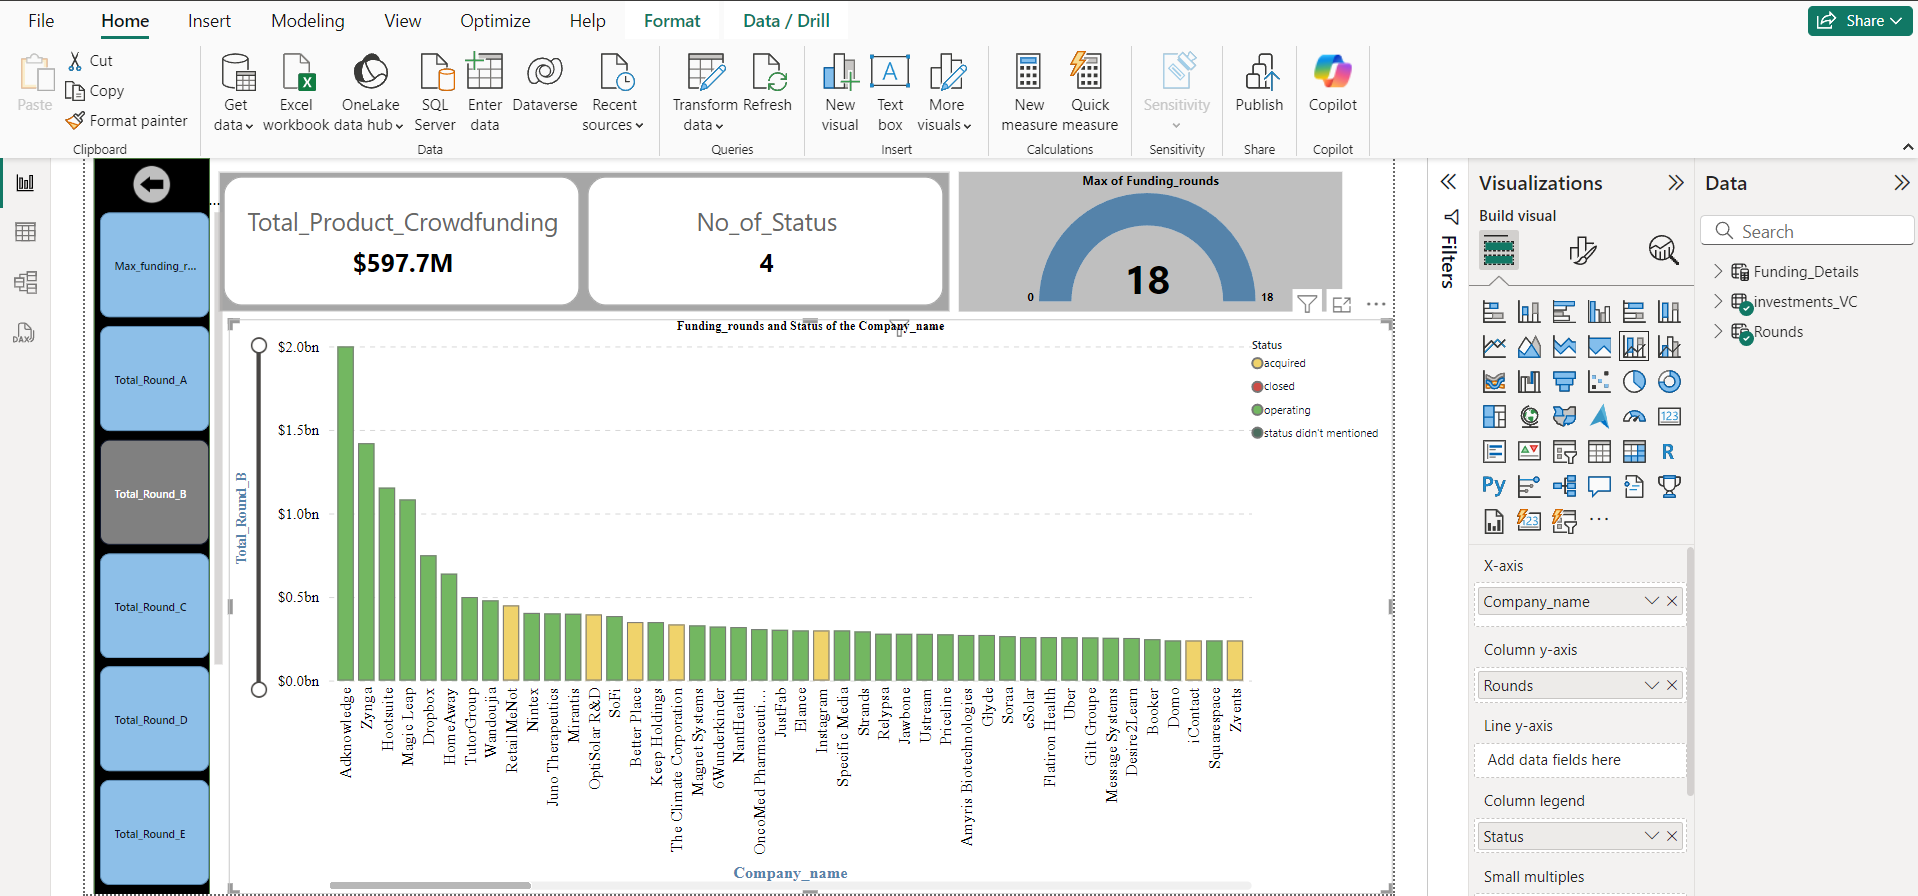

Layout of this report page (visuals, bound fields, positions):
{"tool":"powerbi","page":{"name":"Page 2","canvas":[1280,720],"ordinal":1},"visuals":[{"type":"shape","box":[9.2,0,113.7,1080.4],"z":0},{"type":"cardVisual","fields":{"Data":["investments_VC.Total_Product_Crowdfunding","investments_VC.Distinct"]},"box":[130.8,13.5,715.4,137],"z":1000},{"type":"kpi","box":[1287.6,34.9,533.8,394.4],"z":2000},{"type":"gauge","title":"Max of Funding_rounds","fields":{"Y":["Max(investments_VC.Funding_rounds)"],"MaxValue":["investments_VC.Max_funding_rounds"]},"box":[854.8,13.5,375.4,137],"z":3000},{"type":"lineStackedColumnComboChart","title":"Funding_rounds and Status of the Company_name","fields":{"Y":["investments_VC.Max_funding_rounds"],"Category":["investments_VC.Company_name"],"Series":["investments_VC.Status"]},"box":[140.8,157.1,1138.8,563.3],"z":4000},{"type":"advancedSlicerVisual","title":"Total Rounds with Companies","fields":{"Values":["Rounds.Rounds"]},"box":[10,35,130,685],"z":5000},{"type":"image","box":[41.6,0,47.7,51.4],"z":6000}]}

Visuals, with their boxes on the page's 1280x720 design canvas (x1, y1, x2, y2). These are canvas units, not pixel positions in the 1918x896 screenshot, which may show the page scaled, cropped or inside an application window:
shape: box(9, 0, 123, 1080)
cardVisual - investments_VC.Total_Product_Crowdfunding x investments_VC.Distinct: box(131, 14, 846, 150)
kpi: box(1288, 35, 1821, 429)
"Max of Funding_rounds" gauge: box(855, 14, 1230, 150)
"Funding_rounds and Status of the Company_name" lineStackedColumnComboChart: box(141, 157, 1280, 720)
"Total Rounds with Companies" advancedSlicerVisual: box(10, 35, 140, 720)
image: box(42, 0, 89, 51)
